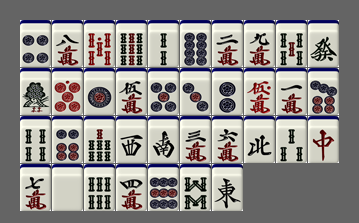0m: (244, 68, 275, 115)
0p: (52, 68, 83, 115)
0s: (84, 20, 115, 67)
1m: (276, 68, 307, 115)
1p: (84, 68, 115, 115)
1s: (20, 68, 51, 115)
1z: (212, 164, 243, 211)
2m: (212, 20, 243, 67)
2p: (212, 68, 243, 115)
2s: (148, 20, 179, 67)
2z: (148, 116, 179, 163)
3m: (180, 116, 211, 163)
3p: (180, 68, 211, 115)
3s: (276, 116, 307, 163)
3z: (116, 116, 147, 163)
4m: (116, 164, 147, 211)
4p: (20, 20, 51, 67)
4s: (20, 116, 51, 163)
4z: (244, 116, 275, 163)
5m: (116, 68, 147, 115)
5p: (148, 68, 179, 115)
5s: (276, 20, 307, 67)
5z: (52, 164, 83, 211)
6m: (212, 116, 243, 163)
6p: (52, 116, 83, 163)
6s: (84, 164, 115, 211)
6z: (308, 20, 339, 67)
7m: (20, 164, 51, 211)
7p: (308, 68, 339, 115)
7s: (84, 116, 115, 163)
7z: (308, 116, 339, 163)
8m: (52, 20, 83, 67)
8p: (180, 20, 211, 67)
8s: (180, 164, 211, 211)
9m: (244, 20, 275, 67)
9p: (148, 164, 179, 211)
9s: (116, 20, 147, 67)
